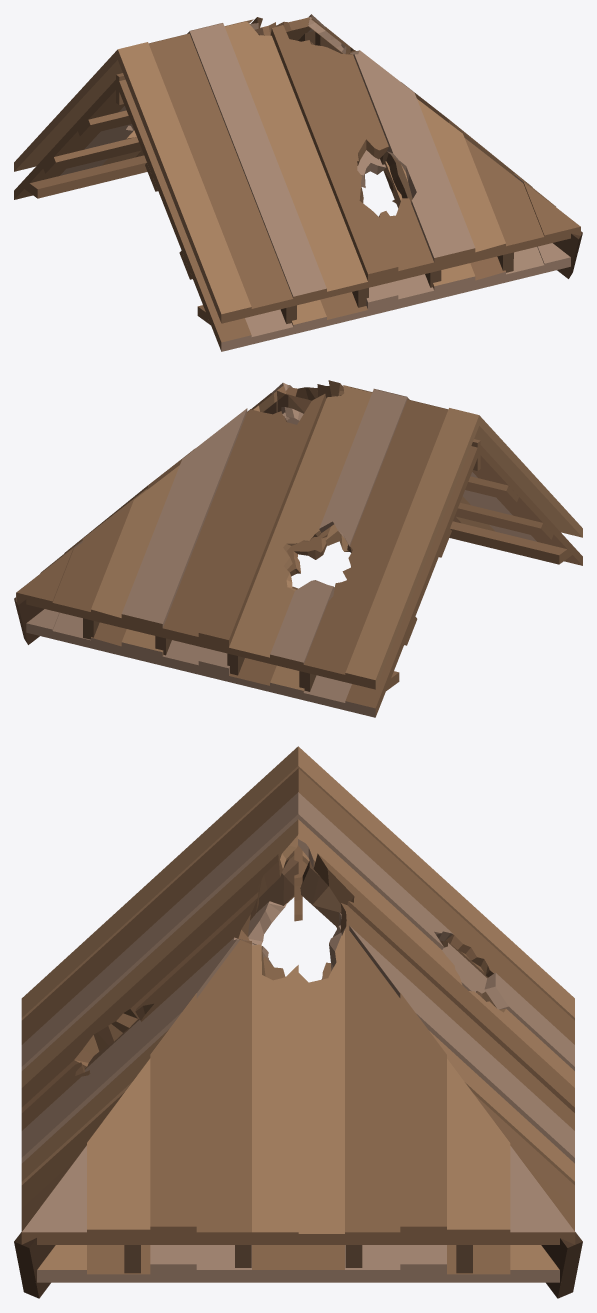
File: SM_Roof_Top_Angle_Broken_Lvl_1.glb
3 views of the same model, one above another, from view 1: azimuth 30°, elevation 25°; view 2: azimuth 150°, elevation 25°; view 3: azimuth 270°, elevation 25° (orthographic). The views are drawn at different scales.
Visible parts, largest first — view 1: SM_Roof_Top_Angle_Broken_Lvl_1; view 2: SM_Roof_Top_Angle_Broken_Lvl_1; view 3: SM_Roof_Top_Angle_Broken_Lvl_1.
Part boxes in pixels (box(x1,y1,x2,y2)): SM_Roof_Top_Angle_Broken_Lvl_1: box(14, 14, 582, 351); SM_Roof_Top_Angle_Broken_Lvl_1: box(14, 380, 582, 717); SM_Roof_Top_Angle_Broken_Lvl_1: box(14, 746, 582, 1298).
Size of the model in its own units: 2.03 by 1.28 by 2.06.
Materials: 1 (1 with a texture image).
